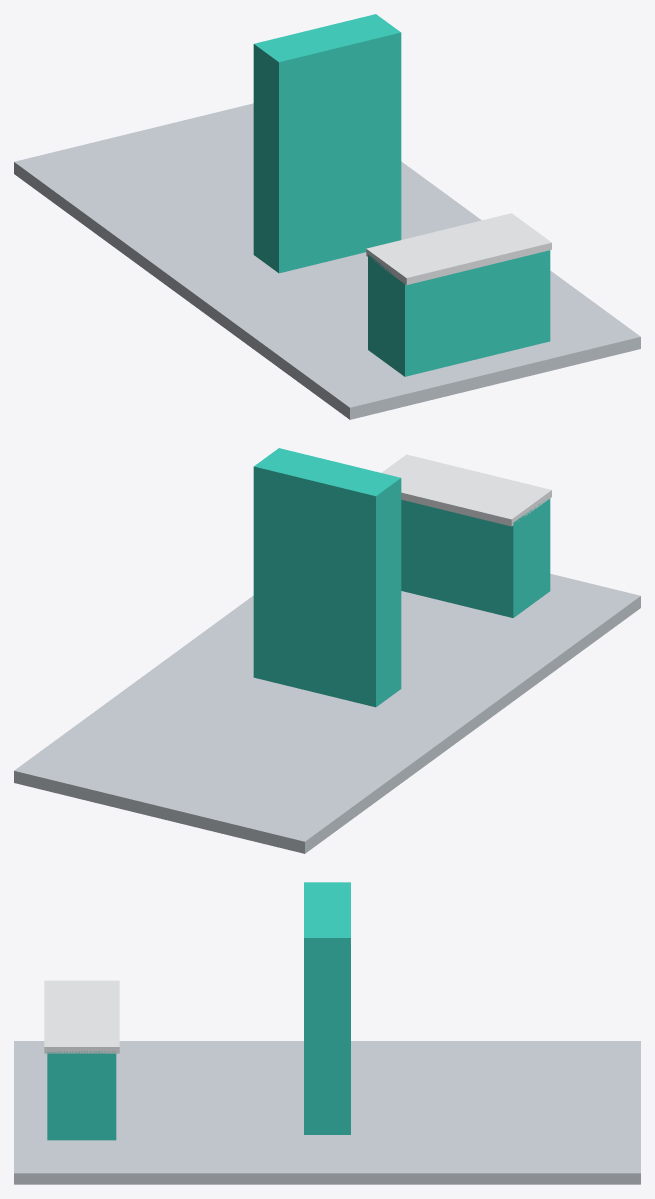
The picture shows the model from 3 angles, top to bottom: view 1: azimuth 30°, elevation 25°; view 2: azimuth 150°, elevation 25°; view 3: azimuth 270°, elevation 25°; orthographic projection. The views are drawn at different scales.
Parts seen in each view (by area): view 1: Exhibition Booth Concept; view 2: Exhibition Booth Concept; view 3: Exhibition Booth Concept.
Part boxes in pixels (<box>): Exhibition Booth Concept: <box>14,14,640,419</box>; Exhibition Booth Concept: <box>14,448,640,853</box>; Exhibition Booth Concept: <box>14,882,640,1184</box>.
Bounding box in the file's own units: 3 × 2.2 × 6.
